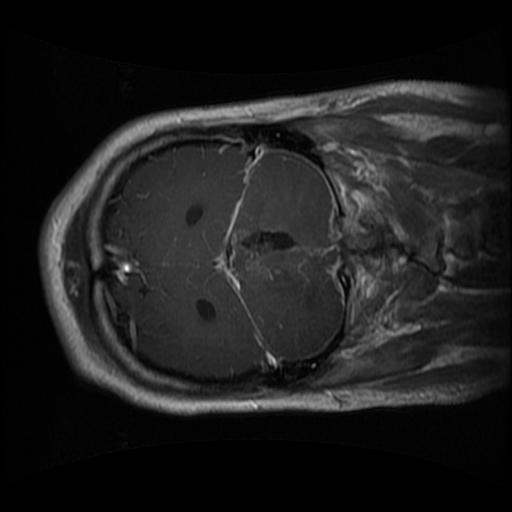glioma: (223, 223, 306, 288)
